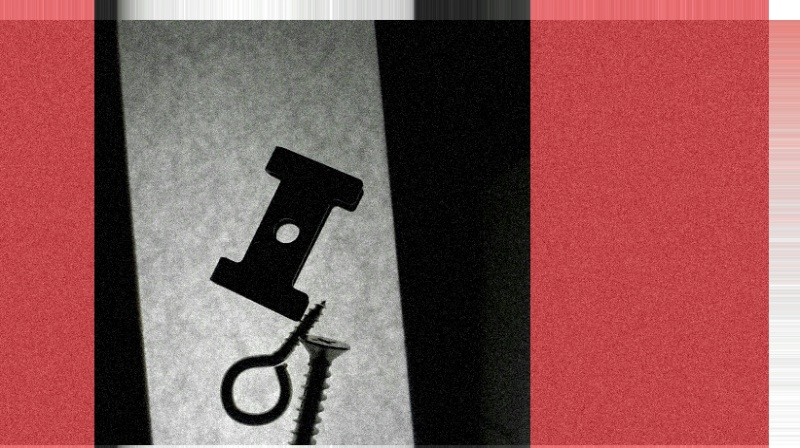O001: (217, 298, 328, 427)
O002: (207, 143, 362, 320)
S001: (284, 331, 348, 447)
